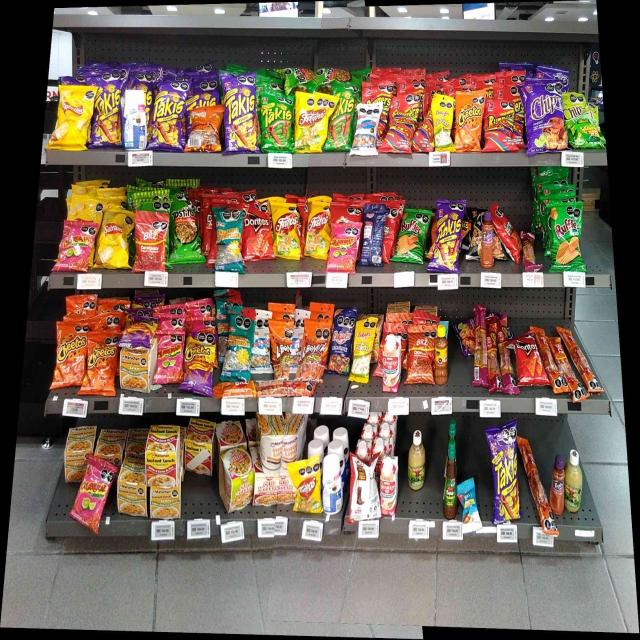bitzAlmendras: (458, 482, 479, 522)
bitzEnchilado90: (544, 327, 590, 397), (522, 438, 549, 530), (135, 211, 165, 271), (222, 383, 312, 398), (409, 327, 432, 384)
bitzHabanero: (476, 307, 510, 395), (521, 231, 537, 273)
bokadosCacahuates: (331, 311, 349, 374)
botaneraChilito: (436, 328, 447, 383)
cheetosFlaminHot: (186, 333, 214, 394), (125, 318, 152, 348)
cheetosOriginal: (56, 320, 86, 382), (88, 333, 115, 397), (457, 91, 482, 151)
chipsFuego: (525, 85, 562, 152)
chipsPapatinas: (566, 91, 600, 149)
churrumais: (80, 466, 106, 528), (64, 222, 92, 270), (156, 332, 182, 381), (332, 221, 356, 270)
delPrimoSalsa: (409, 431, 425, 488), (567, 451, 581, 511)
doritosNacho: (245, 210, 270, 259), (517, 337, 536, 387)
fritosLimon: (295, 91, 326, 153), (272, 204, 300, 260), (297, 461, 321, 513), (310, 202, 330, 260)
leoCacahuates: (254, 310, 270, 375), (356, 106, 376, 156)
leoMix: (302, 320, 324, 380), (274, 321, 292, 378)
maruchanPollo: (118, 460, 146, 516), (121, 352, 150, 391), (150, 486, 182, 519)
maruchanRes: (148, 430, 177, 485), (185, 434, 212, 474)
nestleCarnation: (381, 458, 396, 515), (384, 334, 398, 390)
nestleLechera: (125, 90, 147, 150), (324, 457, 342, 514)
nissinCamaron: (218, 450, 253, 510)
productoAtras: (352, 458, 376, 520), (190, 109, 220, 152), (364, 206, 383, 265)
rufflesQueso: (554, 208, 580, 272), (399, 210, 425, 263)
runners: (387, 98, 416, 154), (487, 99, 515, 150), (419, 119, 433, 154)
sabritasOriginal: (59, 87, 90, 150), (99, 210, 129, 268)
salsaBufalo: (446, 445, 456, 518)
semillasCalabaza: (354, 323, 373, 383), (436, 95, 454, 153)
semillasGirasol: (213, 210, 243, 272), (229, 314, 250, 379)
tajinDulce: (552, 459, 565, 515), (482, 213, 493, 267)
takisFuego: (223, 73, 257, 152), (491, 428, 518, 520), (156, 80, 184, 148), (96, 75, 120, 147), (437, 200, 460, 270)
takisOriginal: (260, 94, 290, 152), (331, 85, 352, 151)
tostitos: (172, 202, 196, 263)
